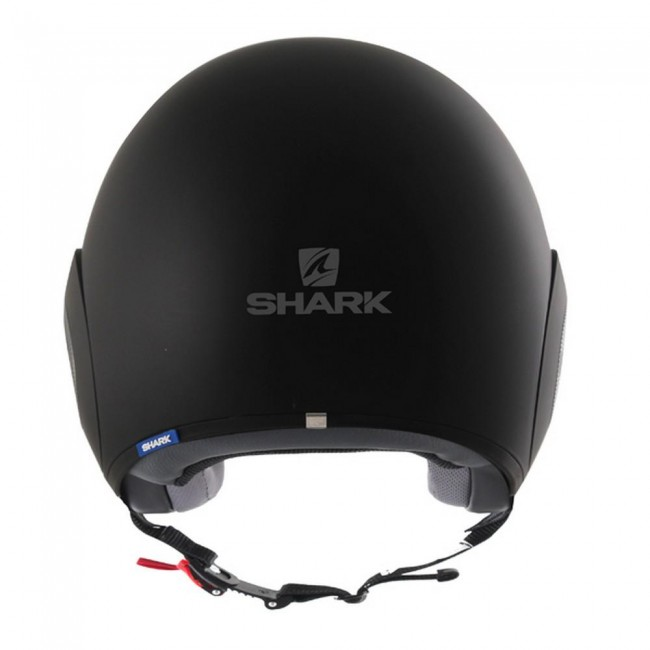with_helmet: (51, 33, 567, 520)
